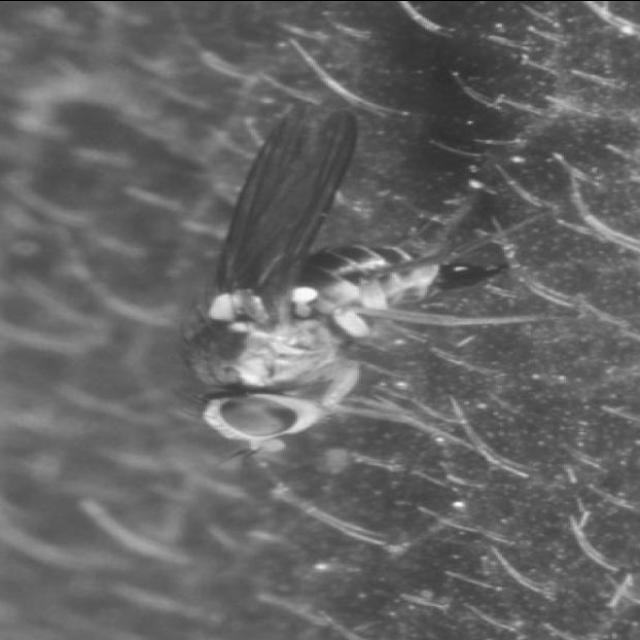Serpentine leafminer: (179, 90, 592, 488)
